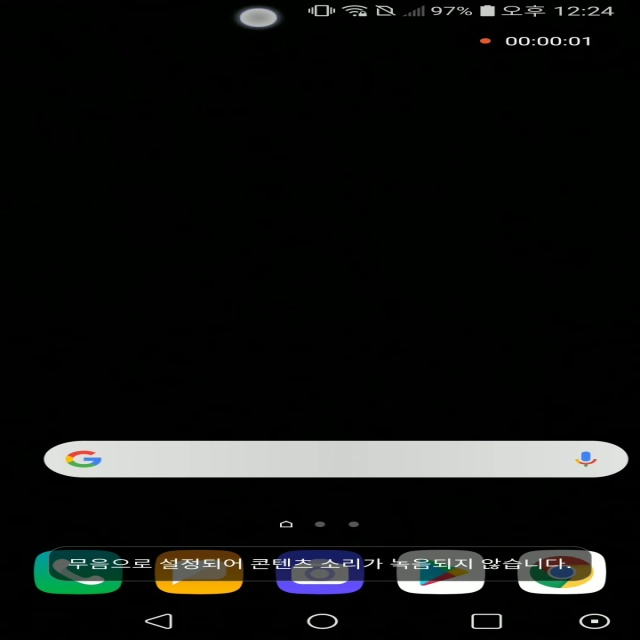Cursor: (239, 7, 283, 30)
